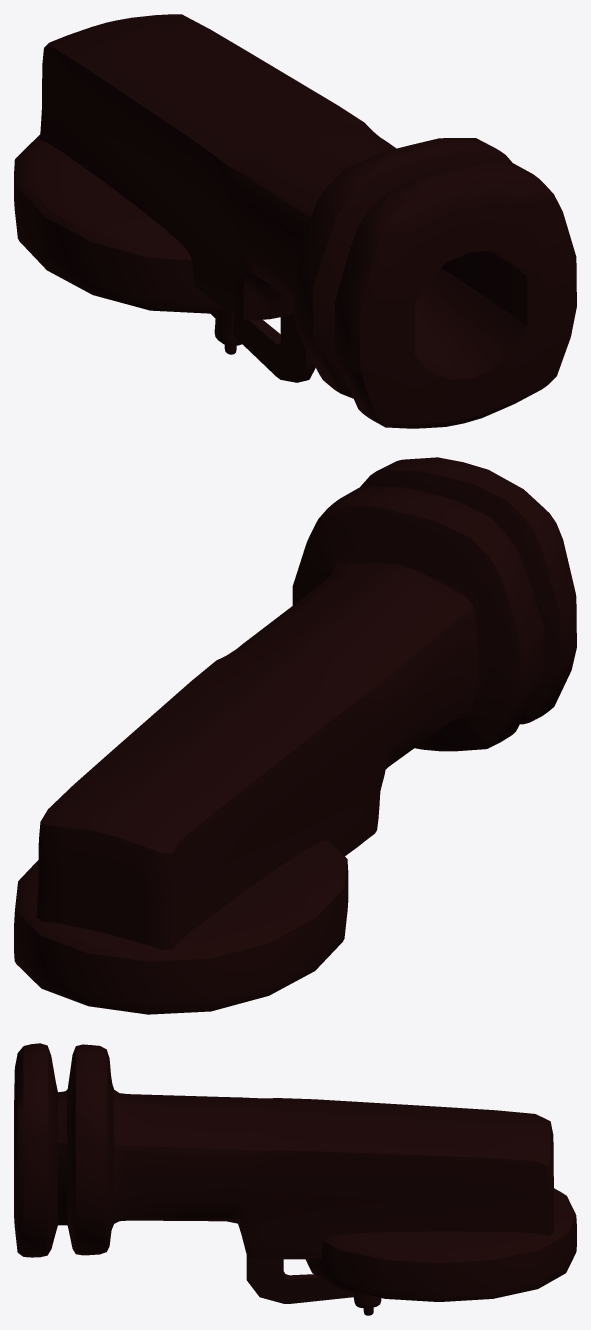
The model's file is recorder.glb.
3 views of the same model, one above another, from view 1: azimuth 30°, elevation 25°; view 2: azimuth 150°, elevation 25°; view 3: azimuth 270°, elevation 25° (orthographic). The views are drawn at different scales.
Visible parts, largest first — view 1: Diaphragm; view 2: Diaphragm; view 3: Diaphragm.
Part boxes in pixels (box(x1,y1,x2,y2)): Diaphragm: box(14, 14, 576, 428); Diaphragm: box(14, 457, 576, 1014); Diaphragm: box(14, 1043, 576, 1315).
Size of the model in its own units: 0.0264 by 0.0326 by 0.0648.
